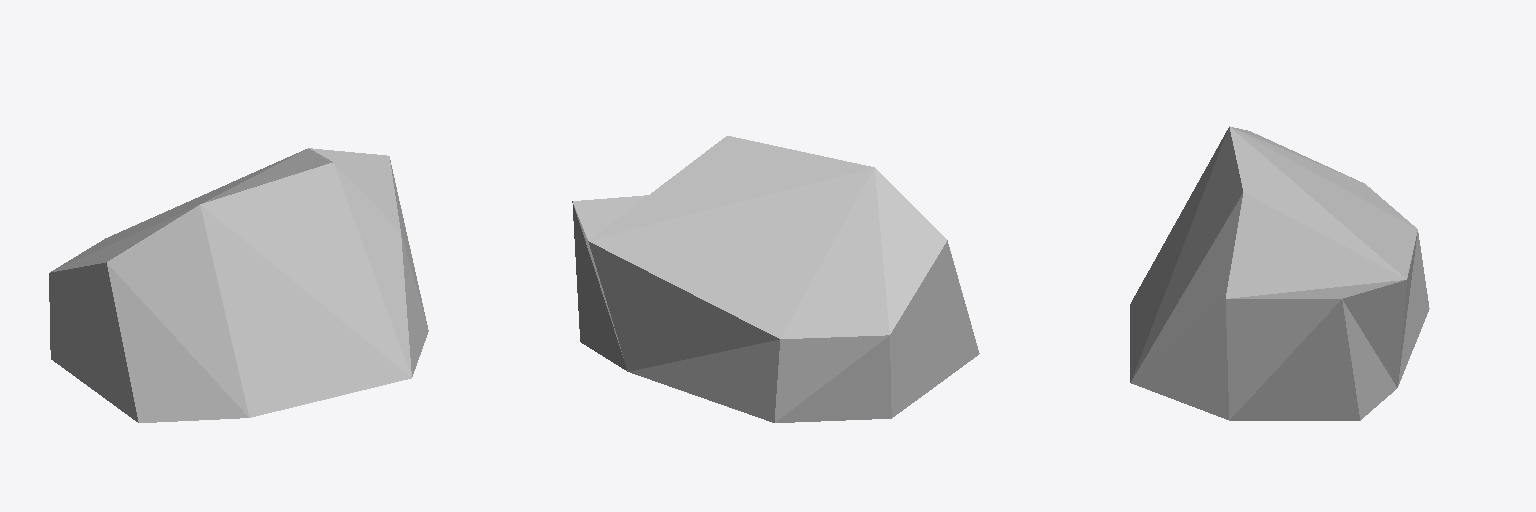
Rendered from valun_005.obj.
3 renders of one model, left to right at view 1: azimuth 30°, elevation 25°; view 2: azimuth 150°, elevation 25°; view 3: azimuth 270°, elevation 25°, orthographic.
Visible parts, largest first — view 1: Валун.005; view 2: Валун.005; view 3: Валун.005.
Boxes of the visible parts, box(x1,y1,x2,y2) form: Валун.005: box(49, 148, 428, 422); Валун.005: box(572, 136, 979, 422); Валун.005: box(1130, 126, 1429, 420).
Bounding box in the file's own units: 2.02 × 1.09 × 1.59.